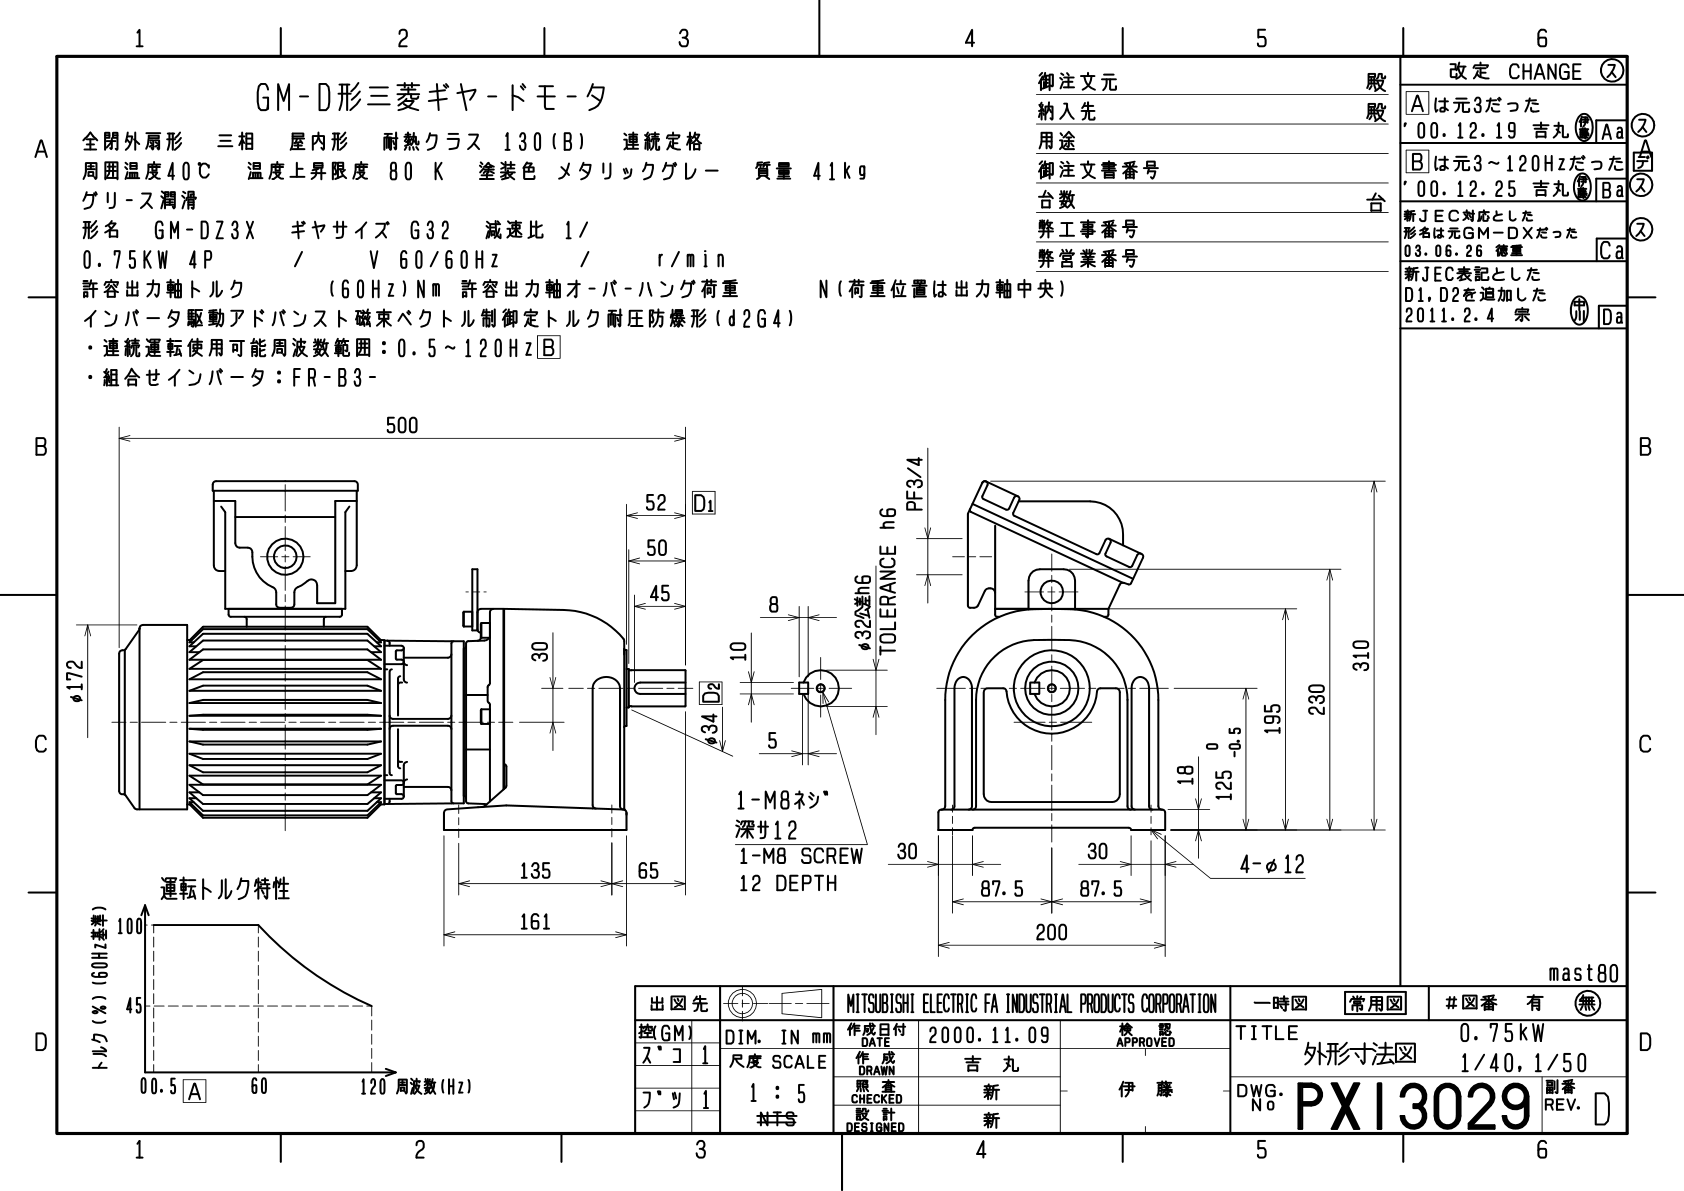GM_D_制御屋内_三相_脚: (1, 1, 1672, 1173)
